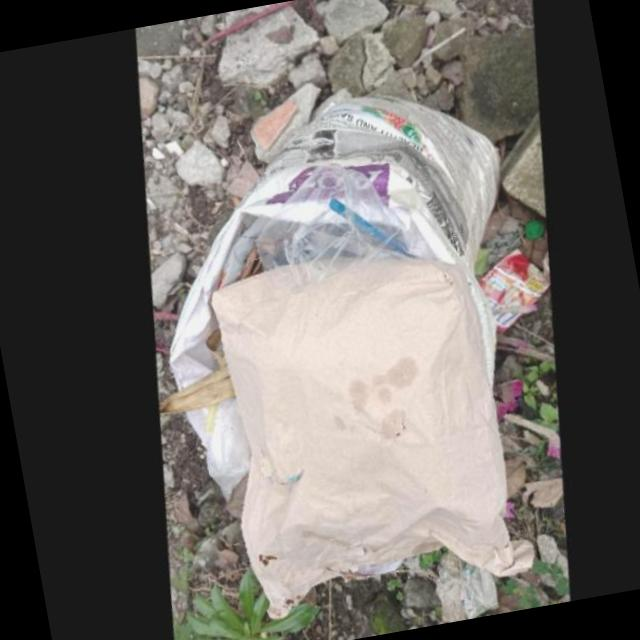giay: (211, 256, 536, 617)
ong_hut_nhua: (329, 201, 413, 261)
tui_ni_long: (256, 167, 413, 272)
